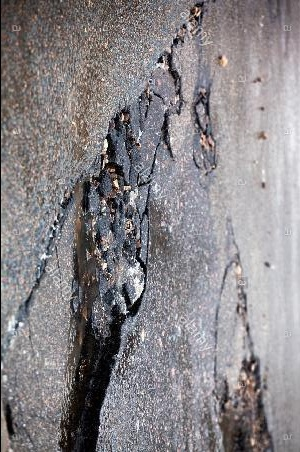pothole: (4, 0, 210, 451), (215, 350, 276, 452), (190, 83, 220, 177)
